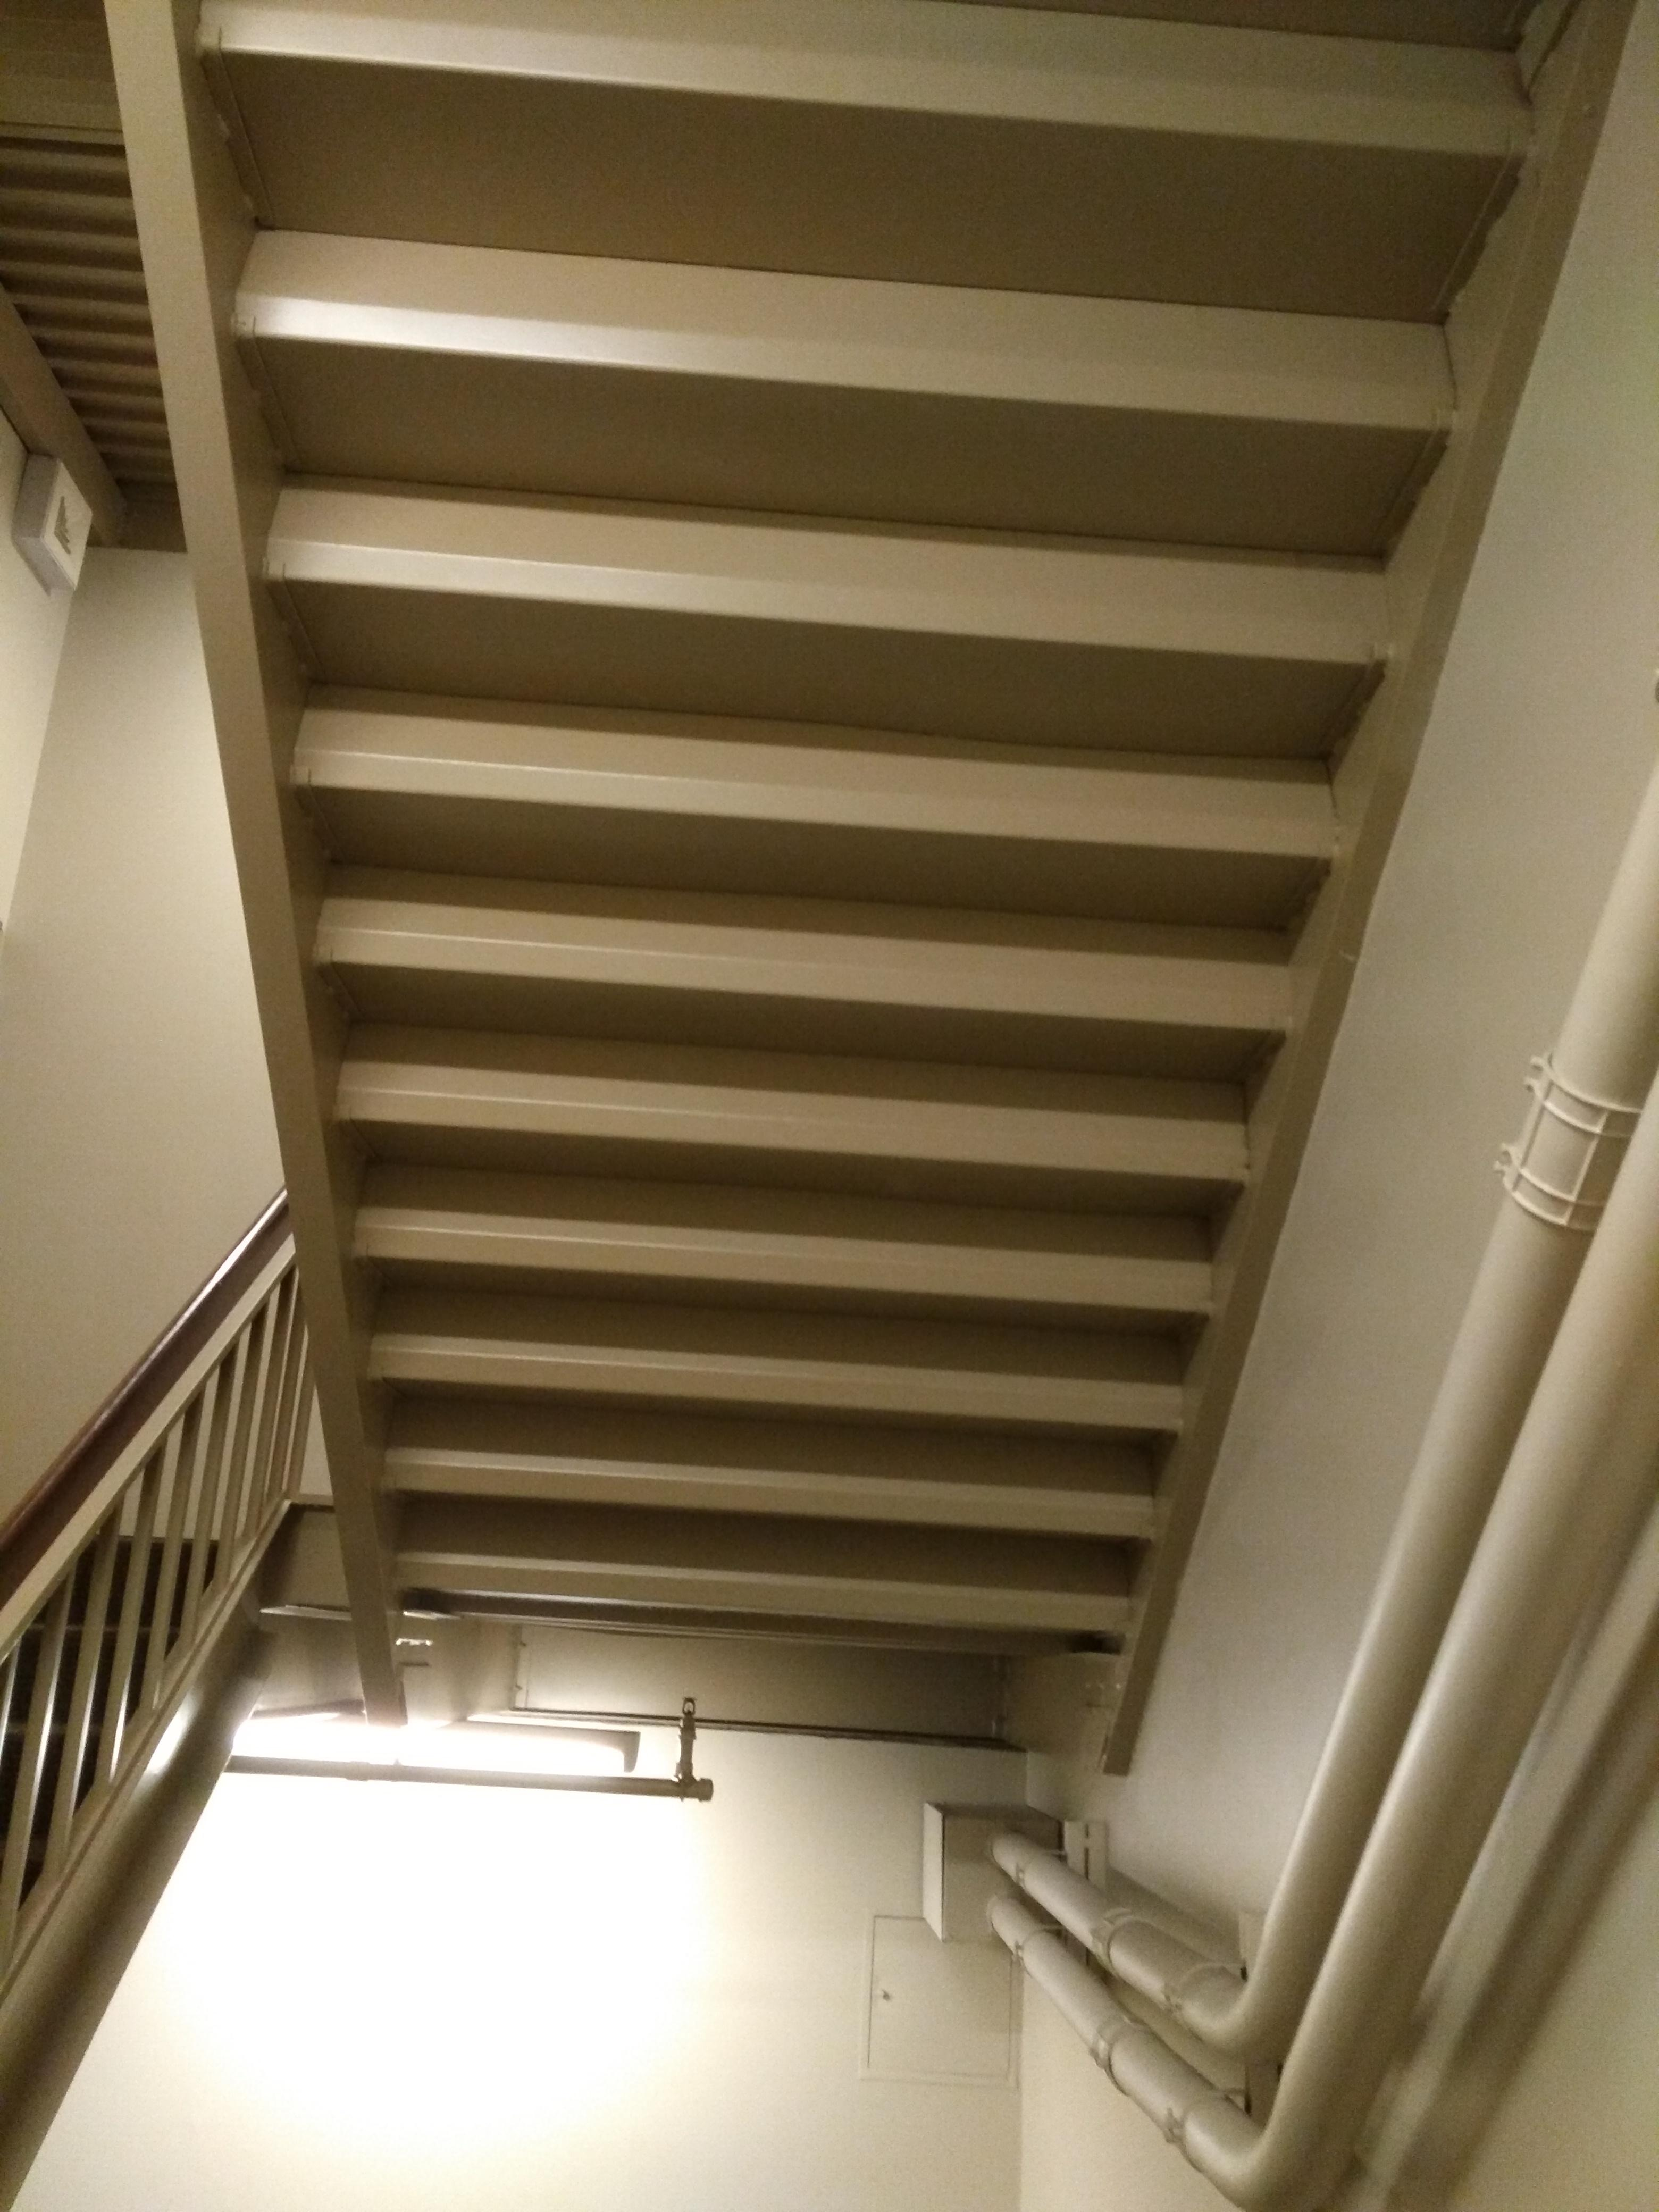staircase: (282, 148, 1239, 1681)
